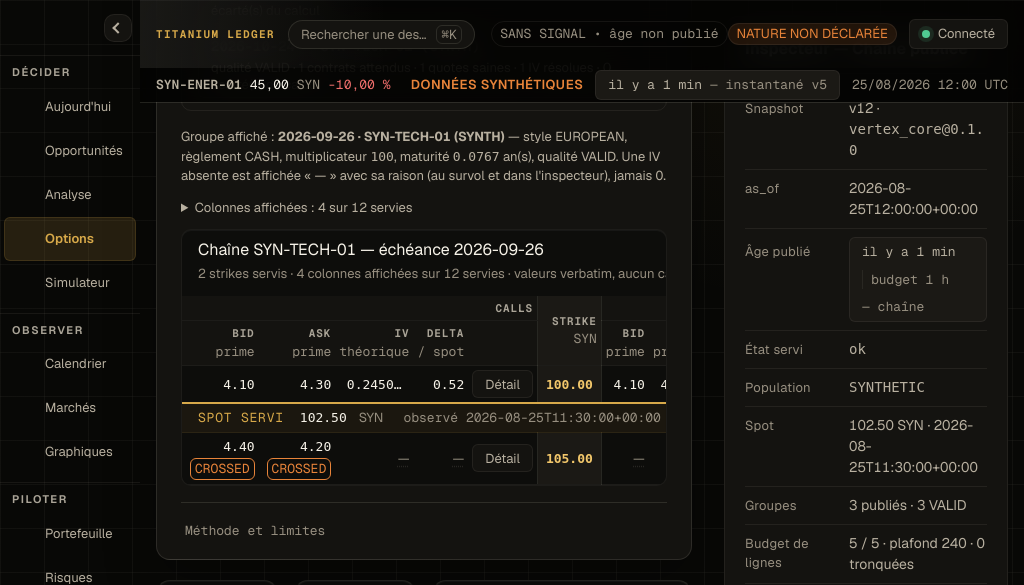
Test: Page Options — état nominal › bascule de groupe : la table rend le groupe sélectionné uniquement
(page scrolled)
Expected: the table named "Chaîne d'options 2026-09-26 SYN-TECH-01" is shown, [182, 230, 667, 485]
Click the button with aria-label "Inspecter CALL strike 100.00" at (503, 384), box [472, 370, 533, 398]
(page scrolled)
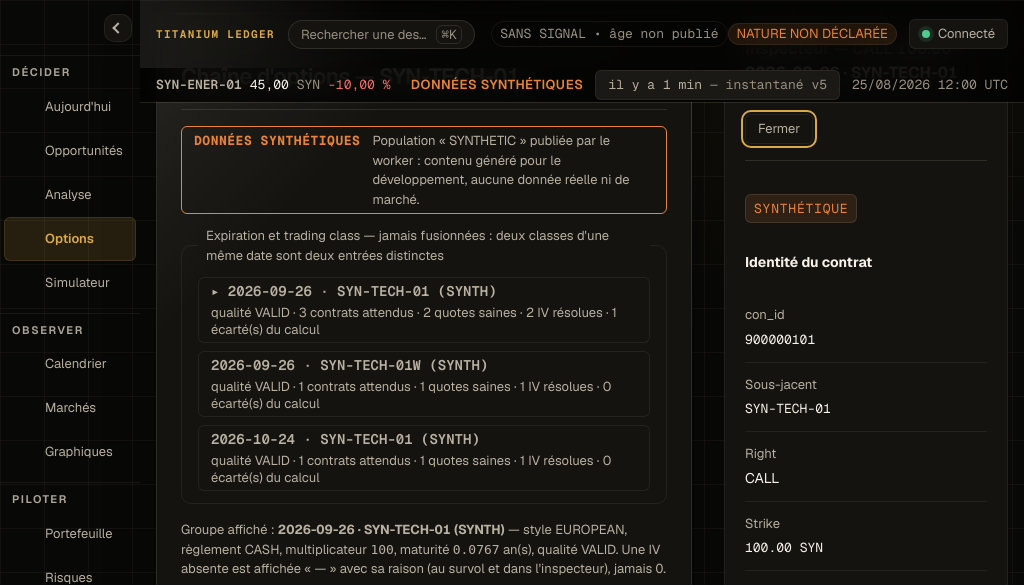
Click the button with test id "chain-group" that starts with "2026-09-26 · SYN-TECH-01W (SYNTH)" at (424, 384), box [198, 351, 650, 417]
(page scrolled)
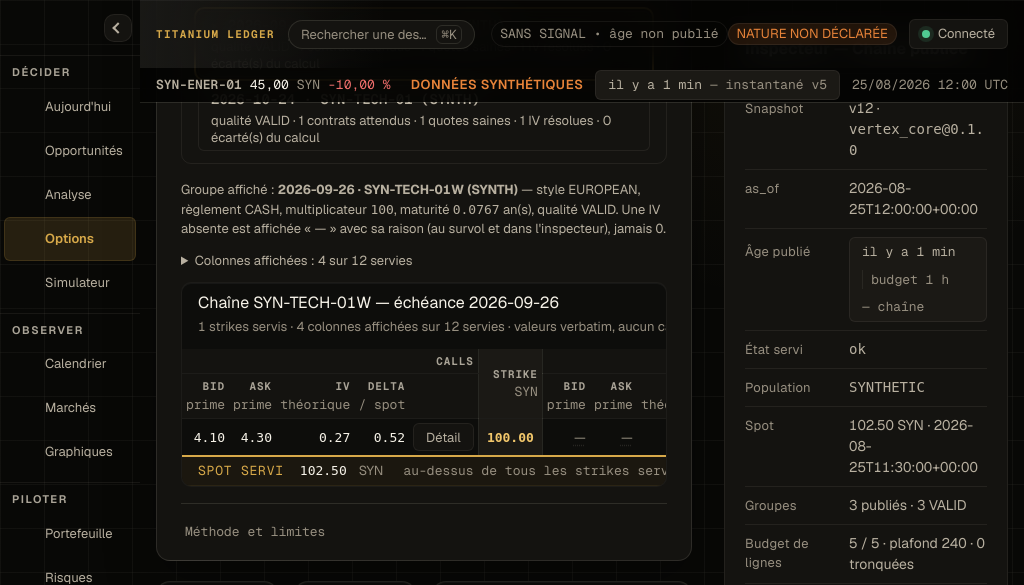
Expected: the table named "Chaîne d'options 2026-09-26 SYN-TECH-01W" is shown, [182, 283, 667, 486]
